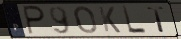9: (49, 5, 72, 35)
K: (97, 5, 123, 34)
L: (121, 5, 149, 35)
O: (73, 5, 98, 35)
P: (22, 5, 47, 36)
T: (146, 6, 167, 34)
